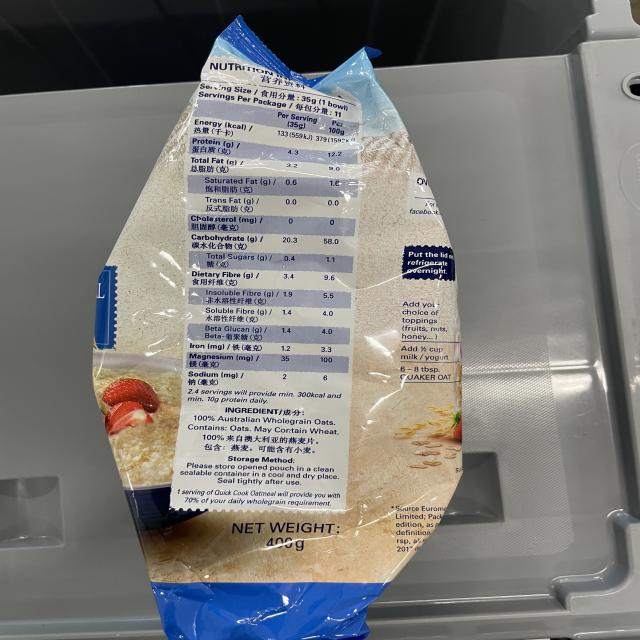object_name: (121, 51, 449, 632)
